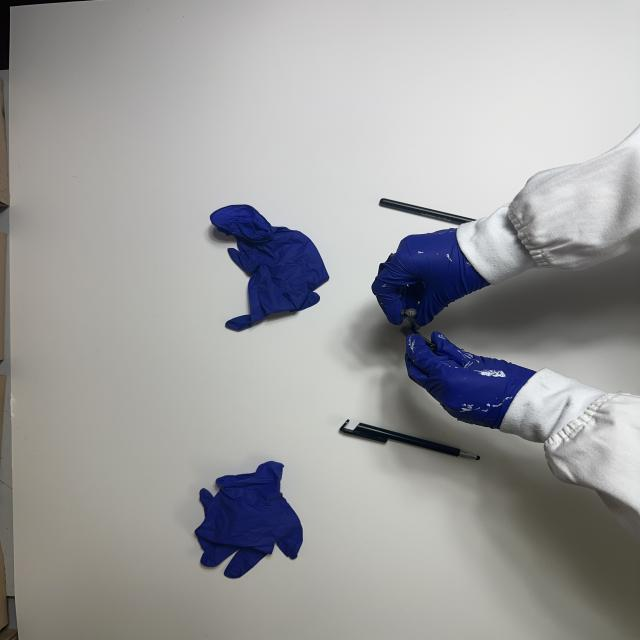gloves_contaminated: (405, 332, 535, 428), (372, 228, 489, 326)
